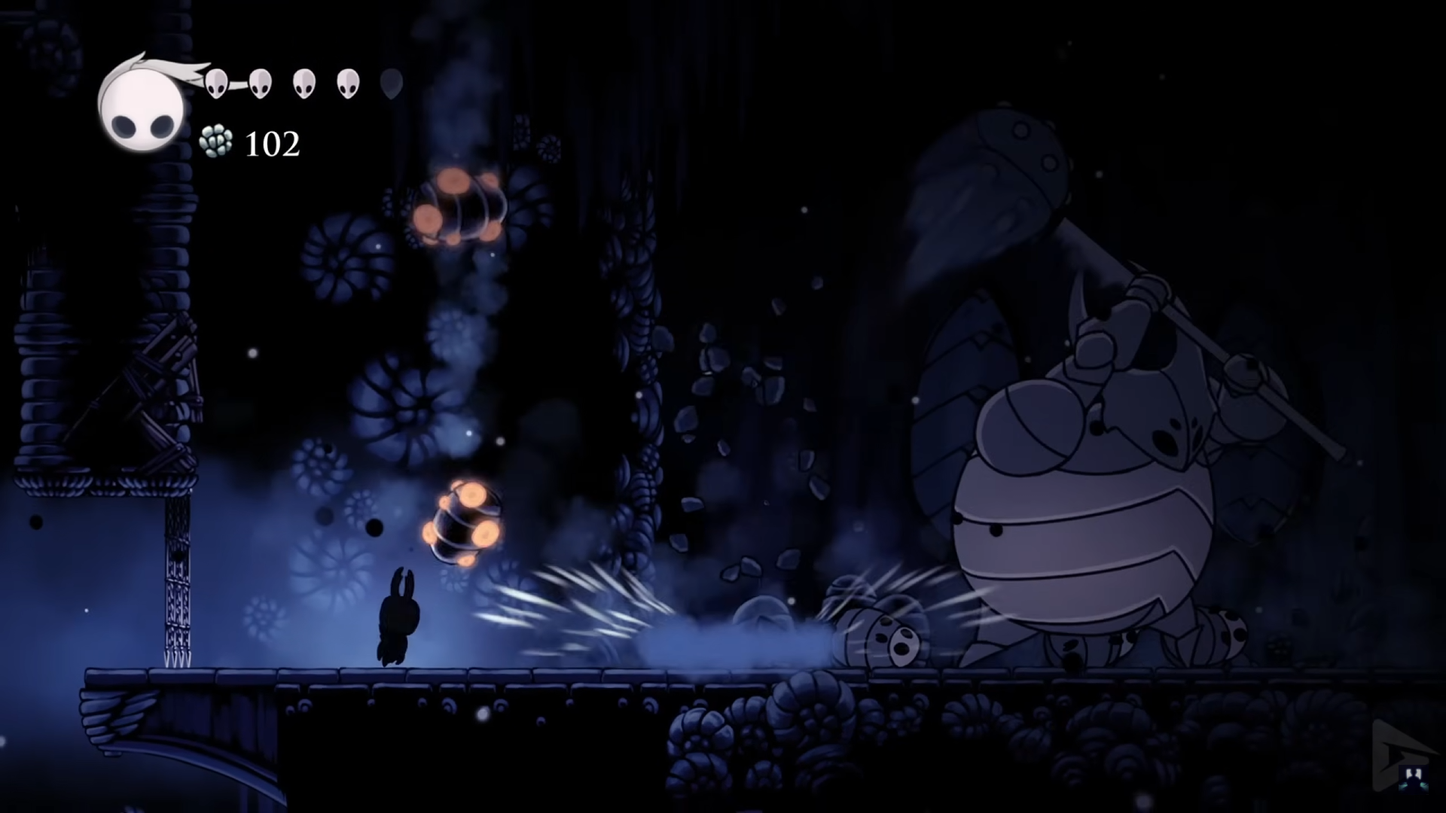HK: (370, 570, 424, 666)
